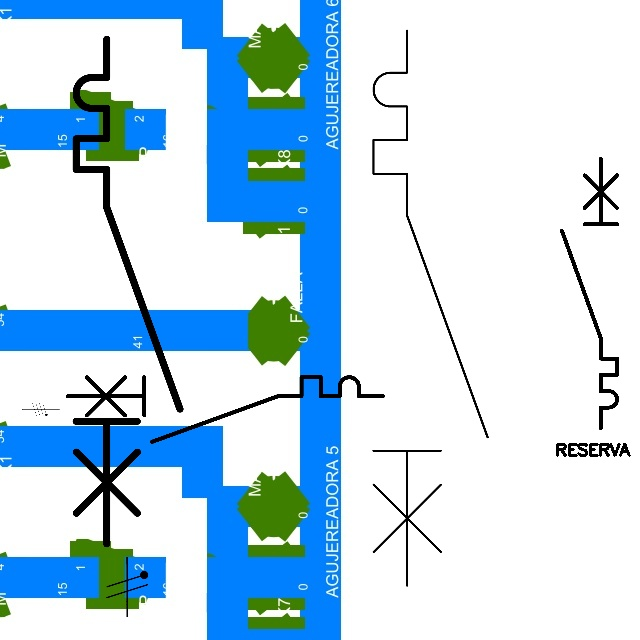interruptor_termomagnetico: (359, 16, 502, 600), (63, 26, 193, 557), (59, 369, 390, 450), (555, 152, 624, 435)
